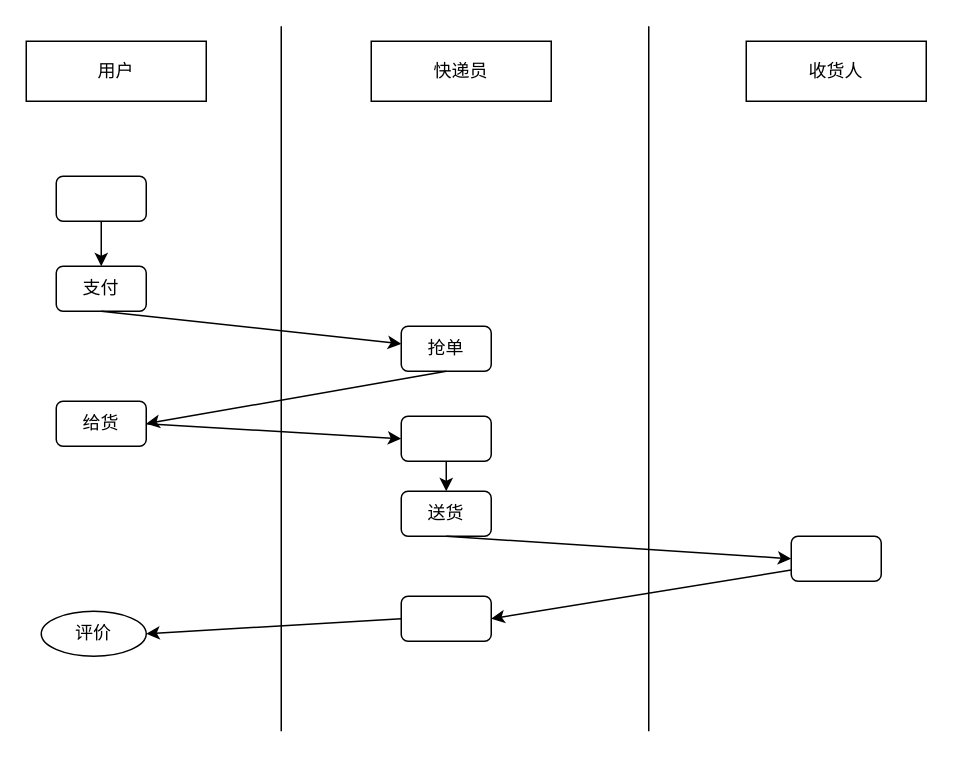
This 953x759 diagram has some shape labels left out. The centre of each missing label's shape, as x and y in pixels:
"收单" goes at (445,438).
"收货" goes at (835,558).
"标记结束" goes at (445,618).
"请求" goes at (100,198).
